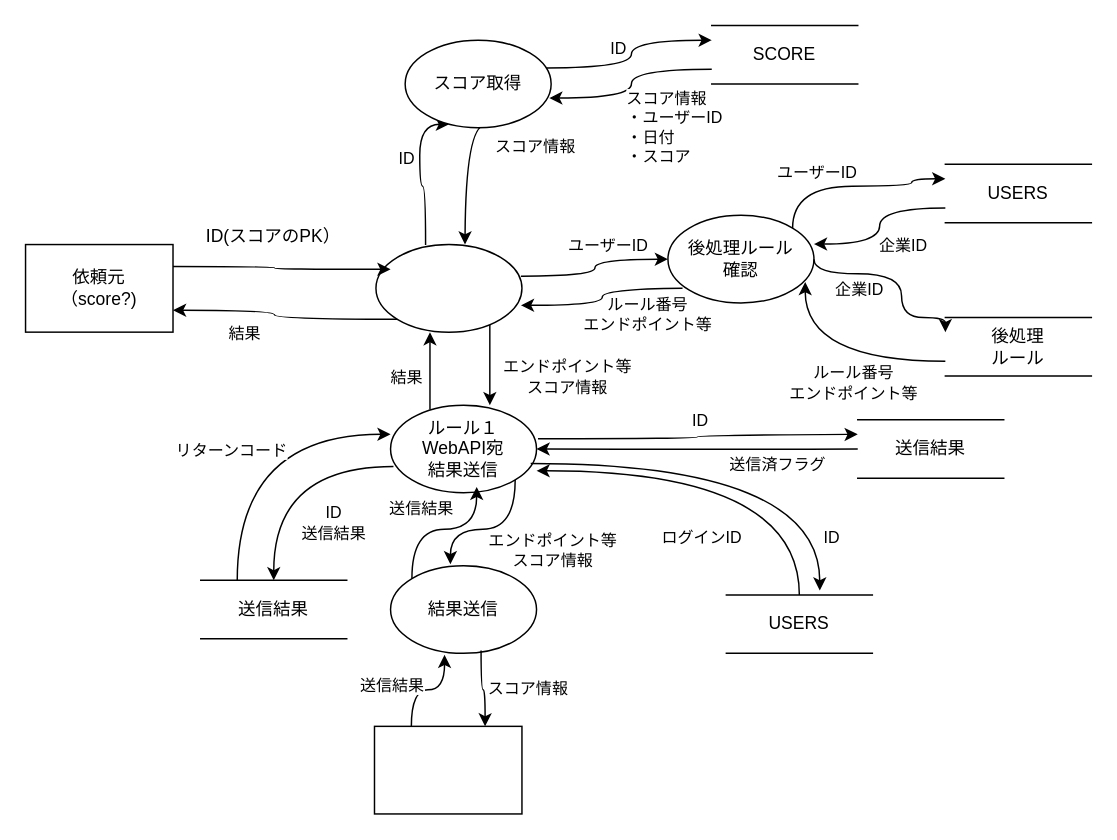
This 1117x840 diagram has some shape labels left out. Each missing label, with the centre of its shape:
"後処理" belongs at (448,287).
"送信先 API" belongs at (447,769).
